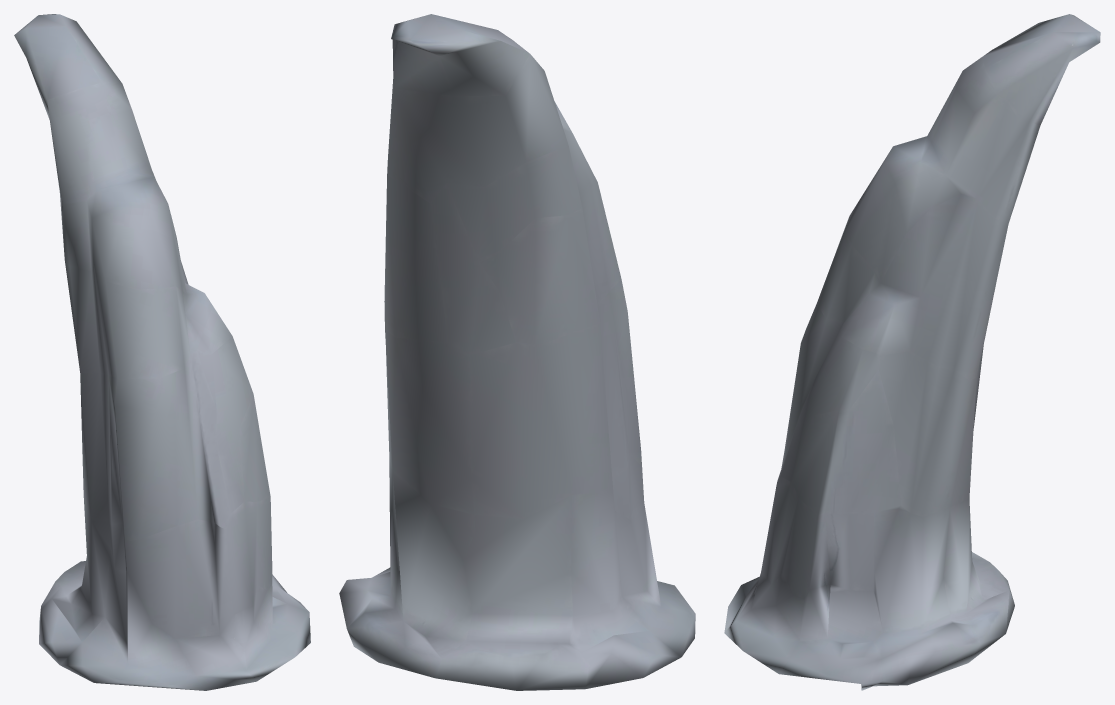
The model's file is waterfall.glb.
The picture shows the model from 3 angles, left to right: view 1: azimuth 30°, elevation 25°; view 2: azimuth 150°, elevation 25°; view 3: azimuth 270°, elevation 25°; orthographic projection. The views are drawn at different scales.
Visible parts, largest first — view 1: tripo_node_a7141b90-5b55-4abe-a0ee-a6bc68daf520; view 2: tripo_node_a7141b90-5b55-4abe-a0ee-a6bc68daf520; view 3: tripo_node_a7141b90-5b55-4abe-a0ee-a6bc68daf520.
Part boxes in pixels (left/top/right/bottom): tripo_node_a7141b90-5b55-4abe-a0ee-a6bc68daf520: left=14, top=14, right=310, bottom=690; tripo_node_a7141b90-5b55-4abe-a0ee-a6bc68daf520: left=339, top=14, right=695, bottom=690; tripo_node_a7141b90-5b55-4abe-a0ee-a6bc68daf520: left=724, top=14, right=1100, bottom=690.
Size of the model in its own units: 0.4577 by 0.9986 by 0.575.
1 material, 1 textured.
